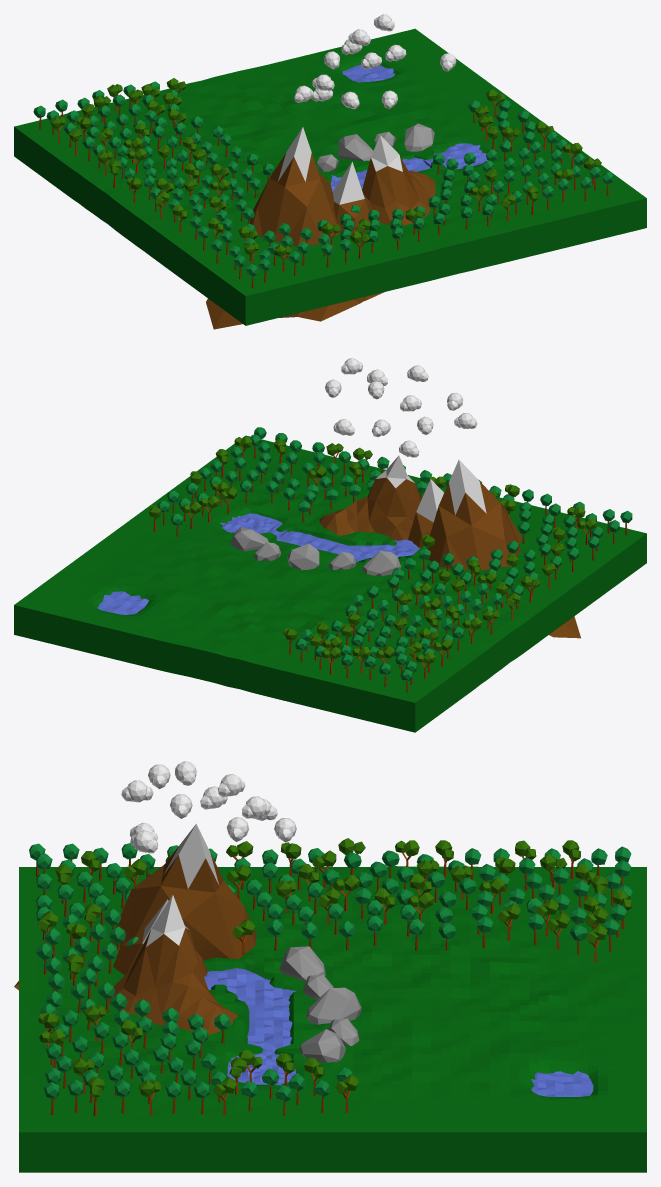
The model's file is mvp grouped.fbx.
The picture shows the model from 3 angles, top to bottom: view 1: azimuth 30°, elevation 25°; view 2: azimuth 150°, elevation 25°; view 3: azimuth 270°, elevation 25°; orthographic projection. The views are drawn at different scales.
Parts seen in each view (by area): view 1: Plane.005; view 2: Plane.005; view 3: Plane.005.
Boxes of the visible parts, bbox=[...] form: Plane.005: bbox=[14, 28, 646, 329]; Plane.005: bbox=[14, 427, 646, 732]; Plane.005: bbox=[14, 824, 646, 1172].
Bounding box in the file's own units: 13417 × 7518 × 13526.
